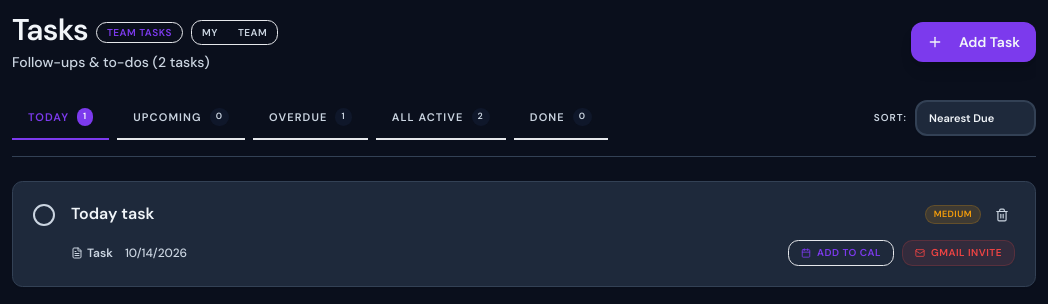
CRMTasks › filters tasks by "overdue" tab
Click the text "Overdue" at {"x": 298, "y": 117}, box [269,108,327,125]
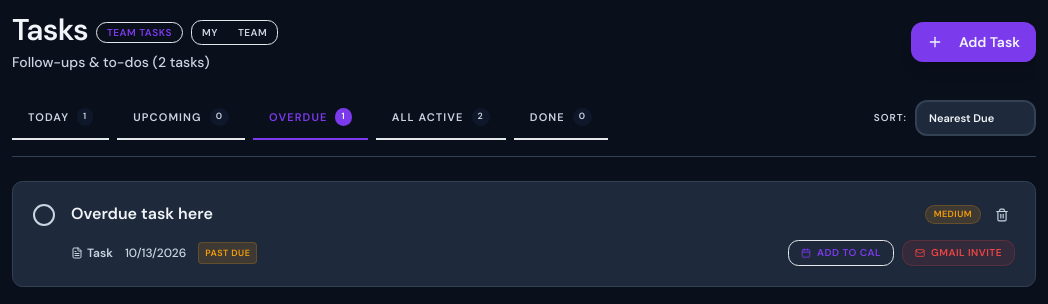
Now the heading "Overdue task here" is shown, box [71,202,213,226]
Now the heading "Today task" is gone
